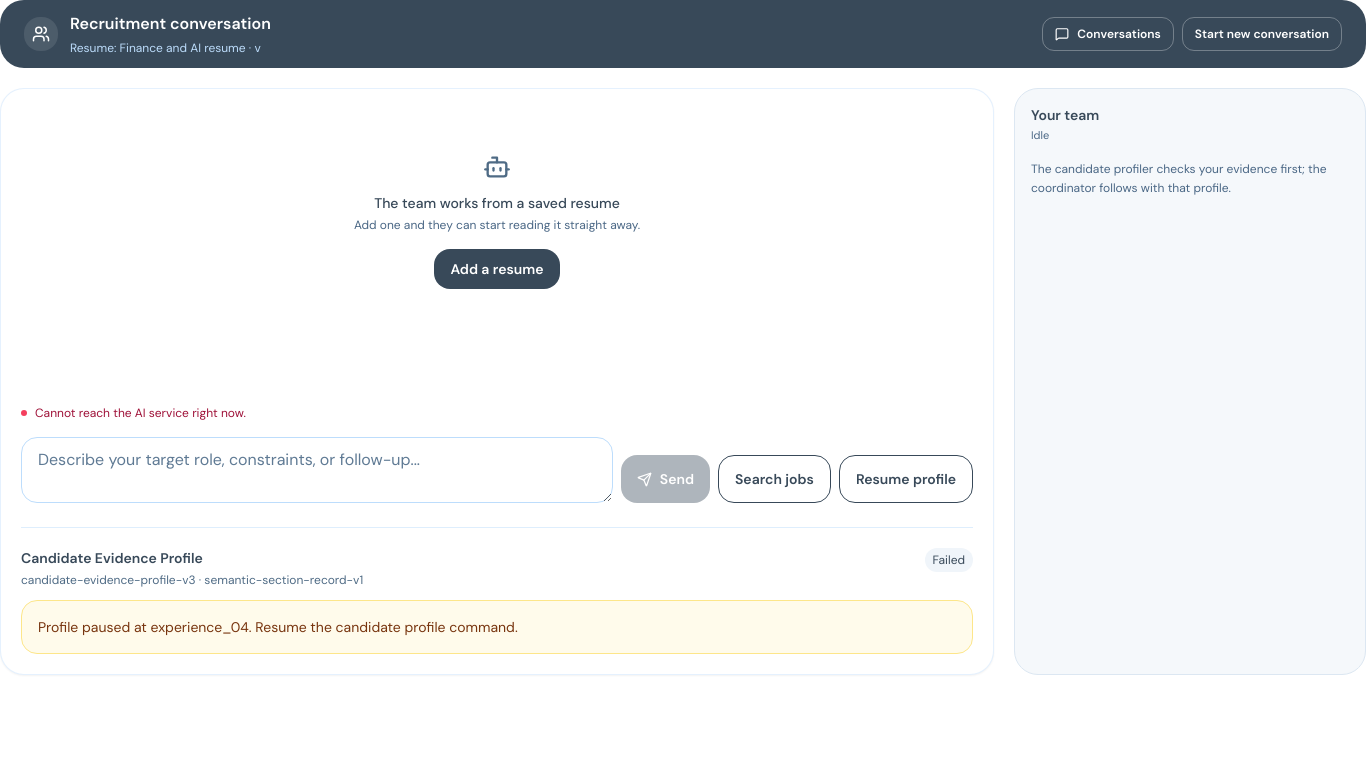
Test: RecruitmentTeamPanel › renders every persisted candidate-profile field and resumes a failed profile
This screenshot has width=1366, height=768.
Click the button "Resume profile": click(906, 479) [839,455,973,503]
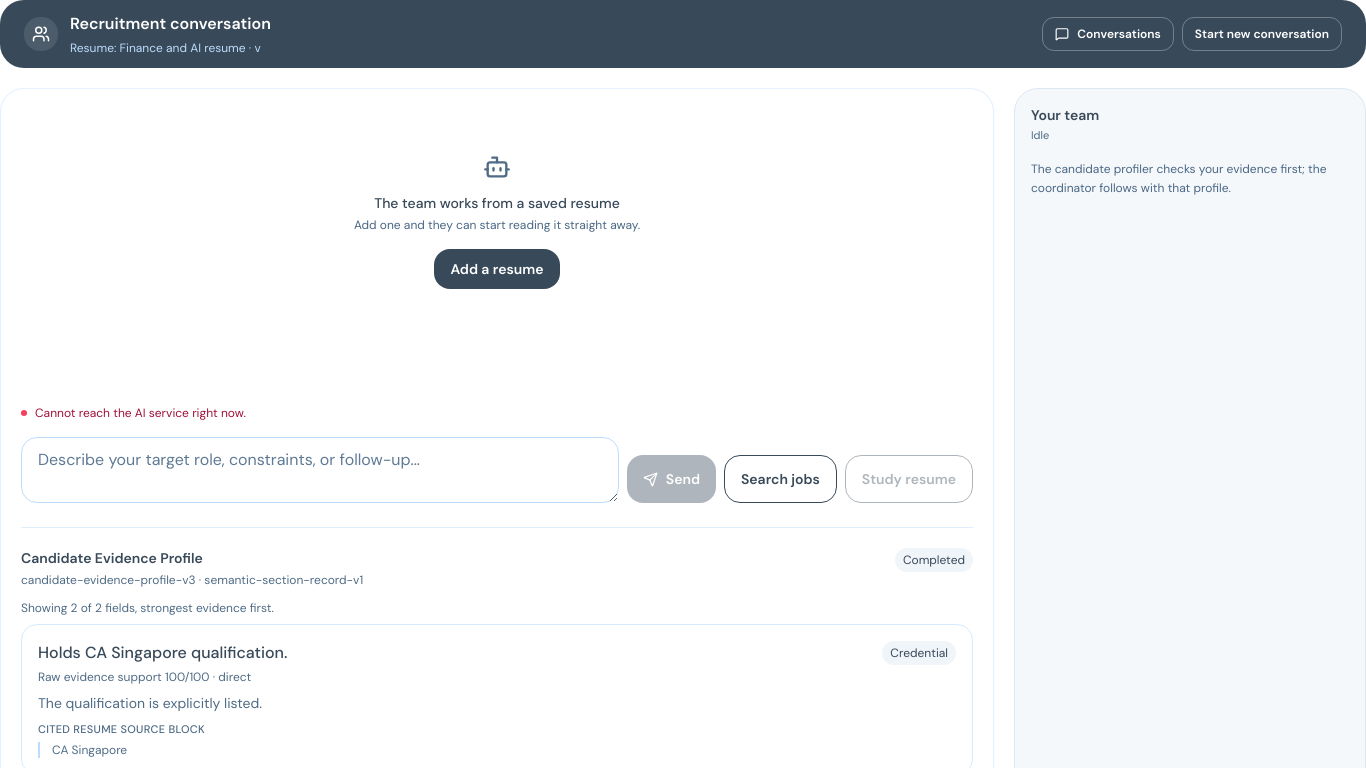
Expected: the text "Holds CA Singapore qualification." is shown, [38,641,288,665]
